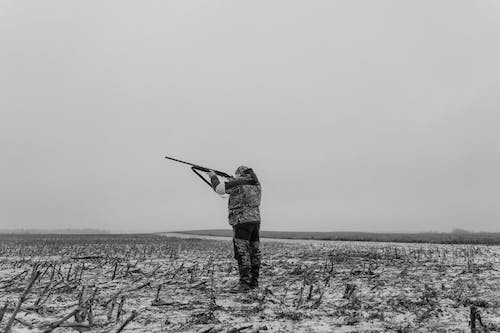gun: (164, 153, 236, 180)
